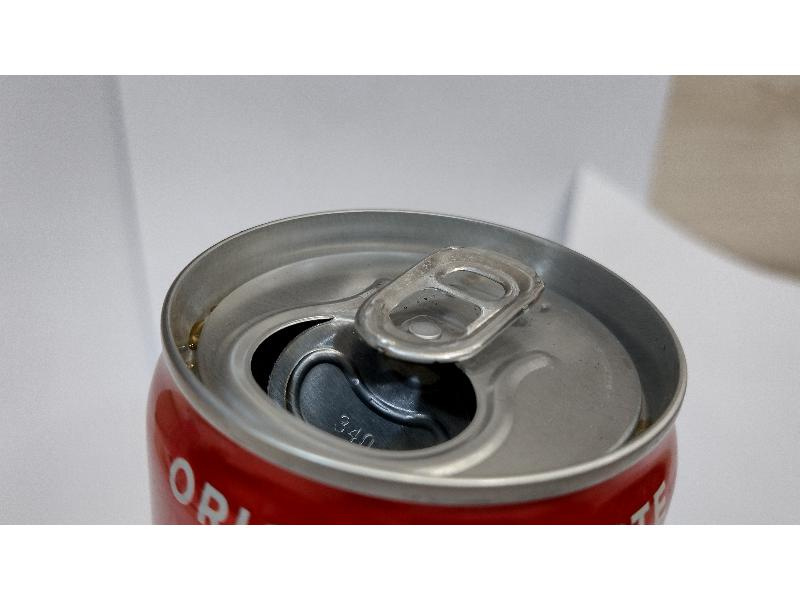can: (136, 192, 696, 524)
